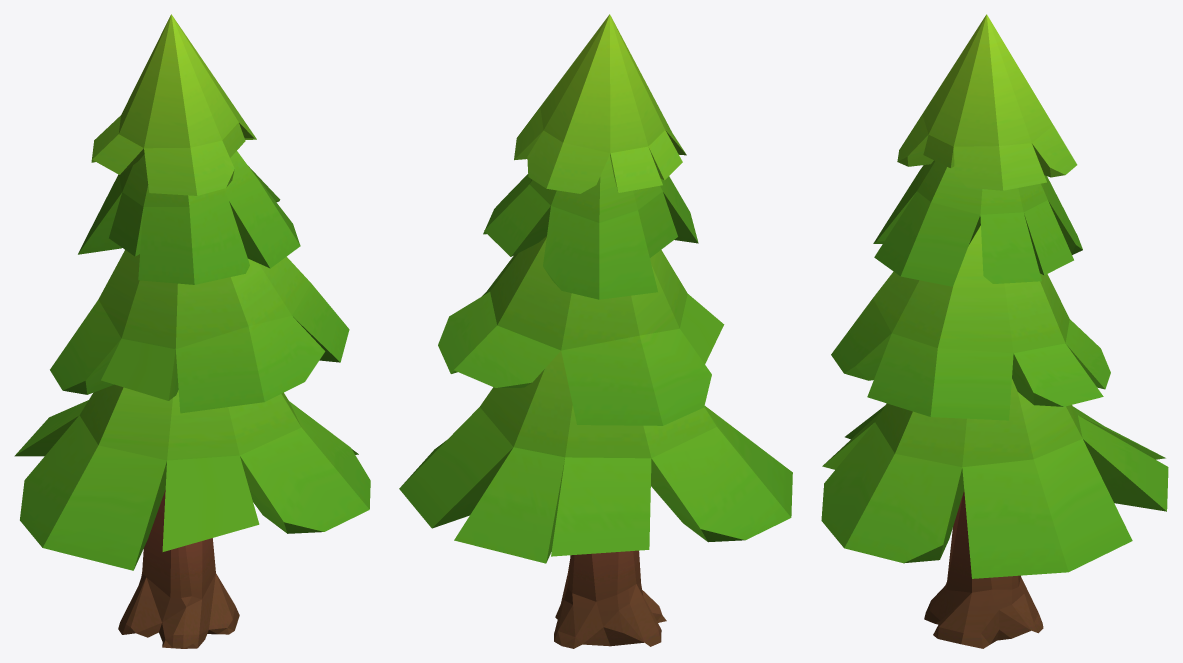
3 renders of one model, left to right at view 1: azimuth 30°, elevation 25°; view 2: azimuth 150°, elevation 25°; view 3: azimuth 270°, elevation 25°, orthographic.
Visible parts, largest first — view 1: Tree1; view 2: Tree1; view 3: Tree1.
Boxes of the visible parts, x1,y1,x2,y2 form: Tree1: [14, 14, 370, 648]; Tree1: [399, 14, 792, 648]; Tree1: [821, 14, 1168, 648].
Bounding box in the file's own units: 287 × 500 × 259.
1 material, 1 textured.
